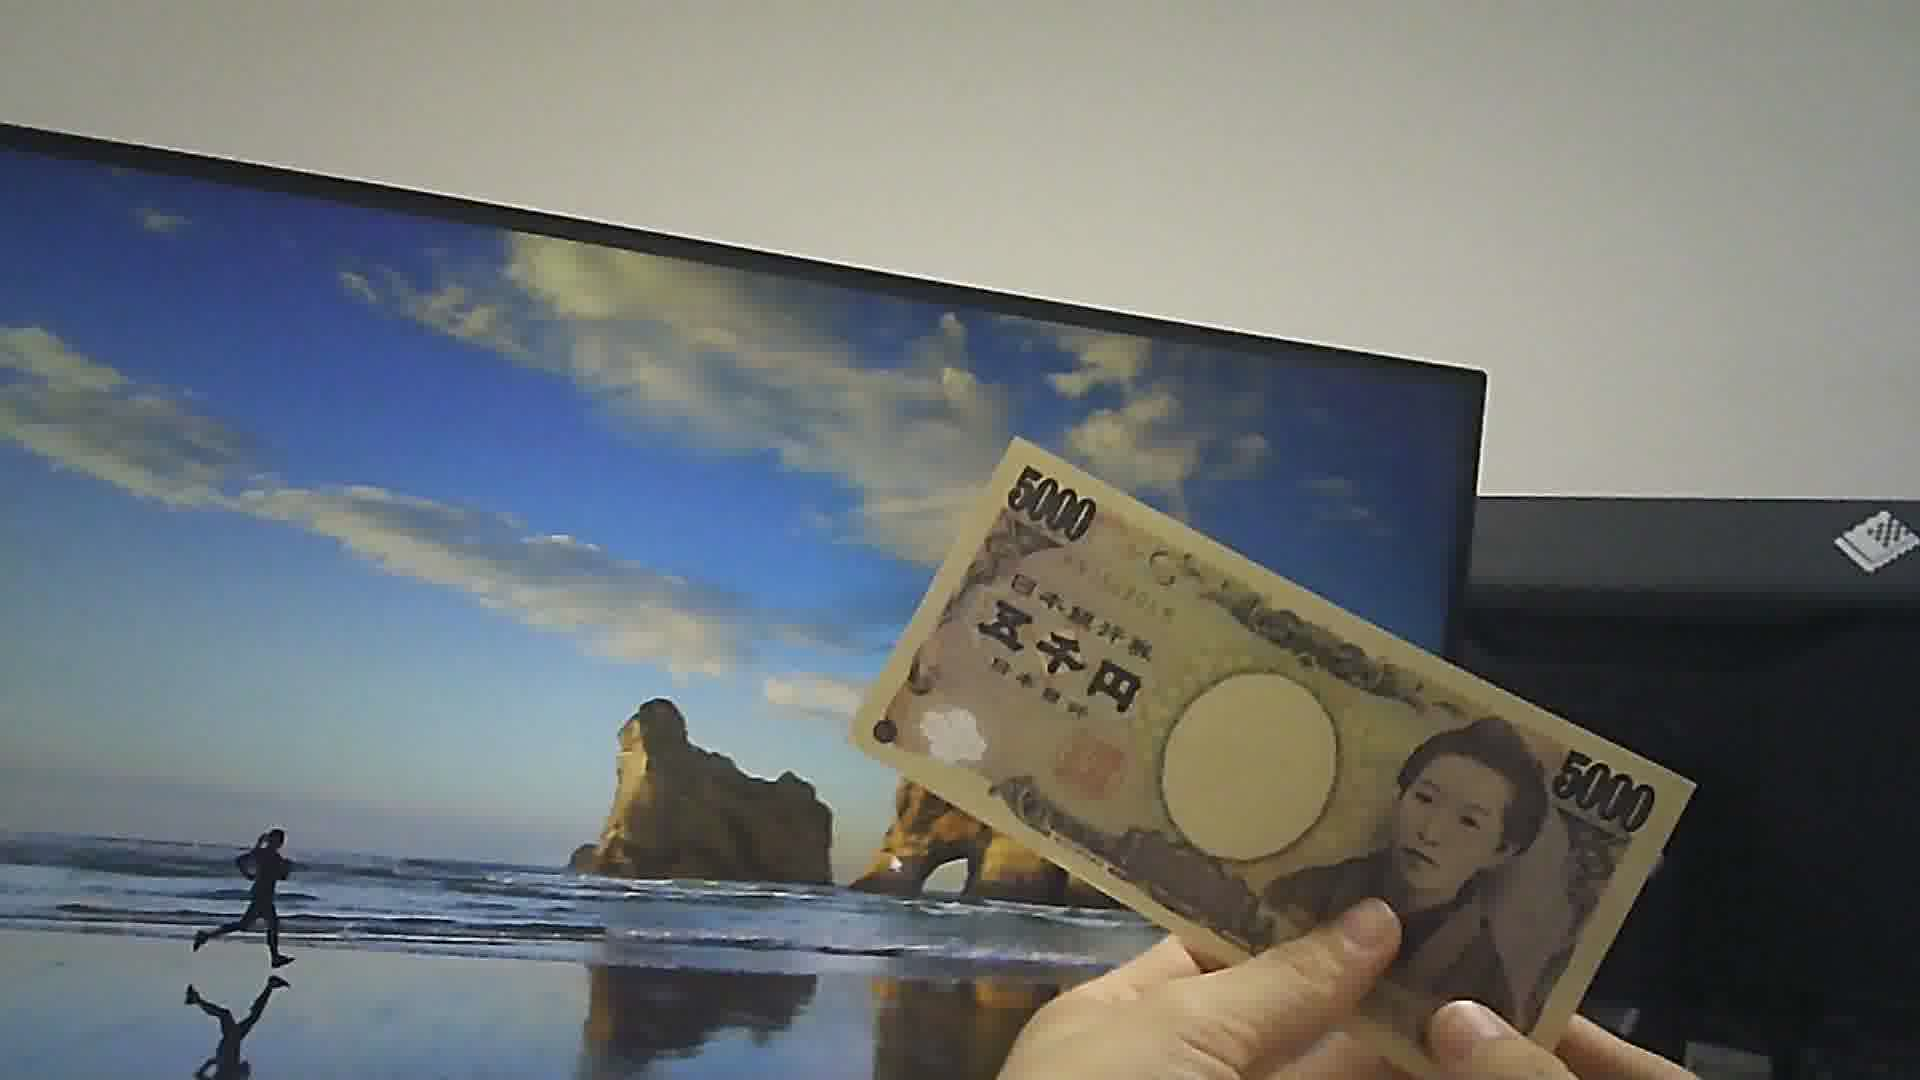5,000 Yen: (811, 423, 1665, 1065)
